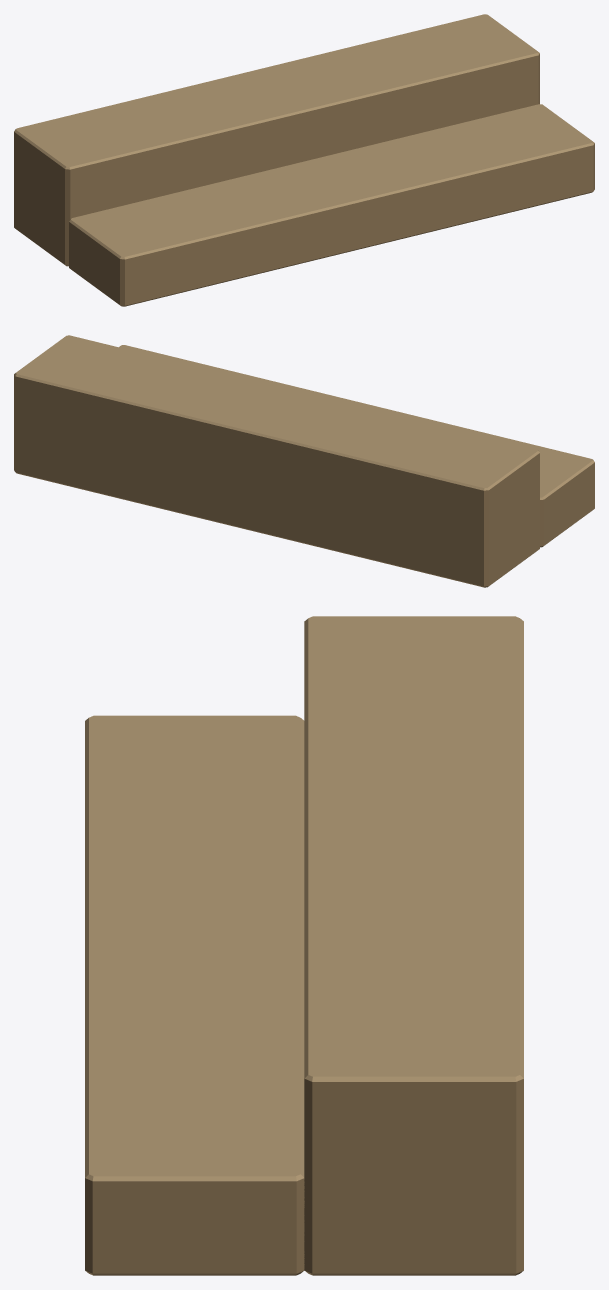
File: stair-short.glb
The picture shows the model from 3 angles, top to bottom: view 1: azimuth 30°, elevation 25°; view 2: azimuth 150°, elevation 25°; view 3: azimuth 270°, elevation 25°; orthographic projection. The views are drawn at different scales.
Parts seen in each view (by area): view 1: stair-short__body; view 2: stair-short__body; view 3: stair-short__body.
Boxes of the visible parts, x1,y1,x2,y2 form: stair-short__body: (14,14,594,306); stair-short__body: (14,335,594,587); stair-short__body: (85,616,523,1275).
Size of the model in its own units: 2 by 0.4 by 0.8.
